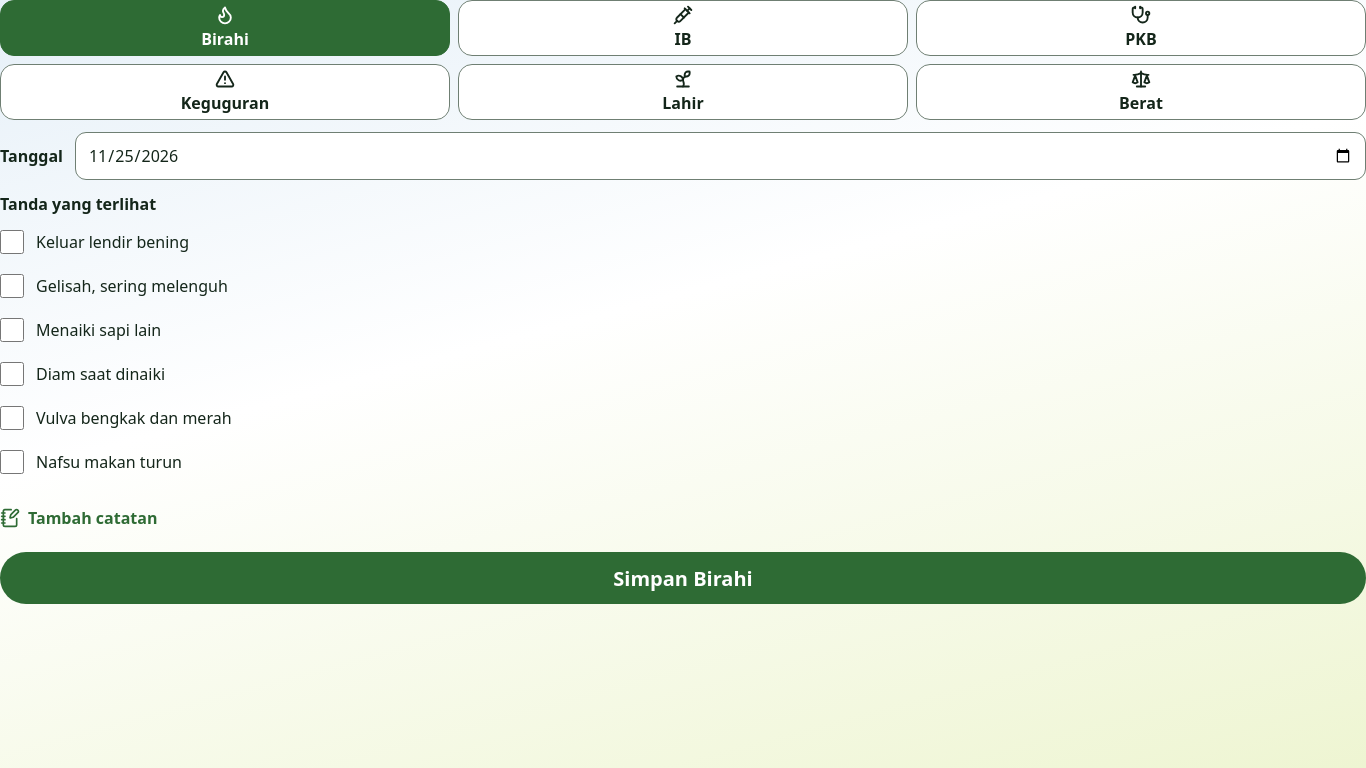
Test case: EventForm › tanggal setelah hari ini ditolak
Type "2026-11-26" into the date field labelled "Tanggal" at (720, 156), box [75,132,1365,180]
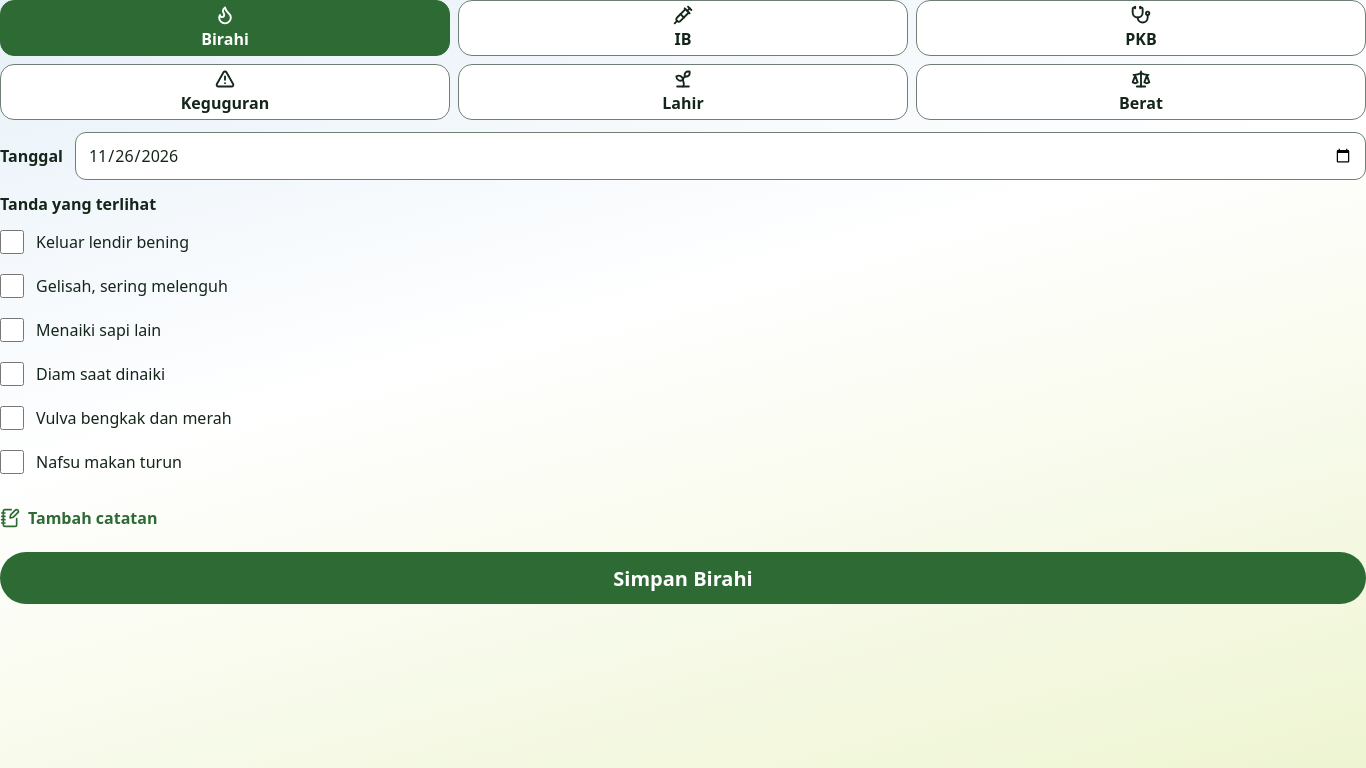
Click the button "Simpan Birahi" at (683, 578), box [0,552,1365,604]
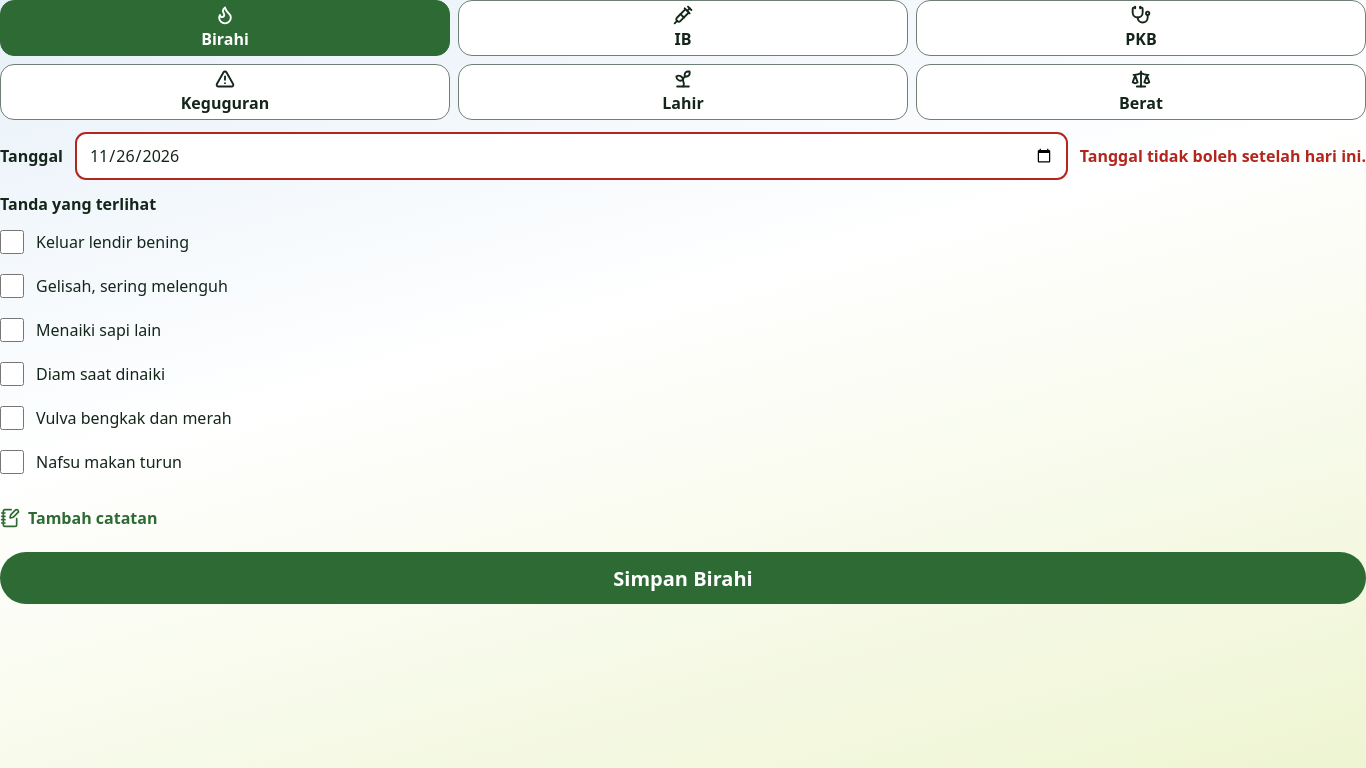
Now the text "Tanggal tidak boleh setelah hari ini." is shown, box [1080,144,1365,168]
